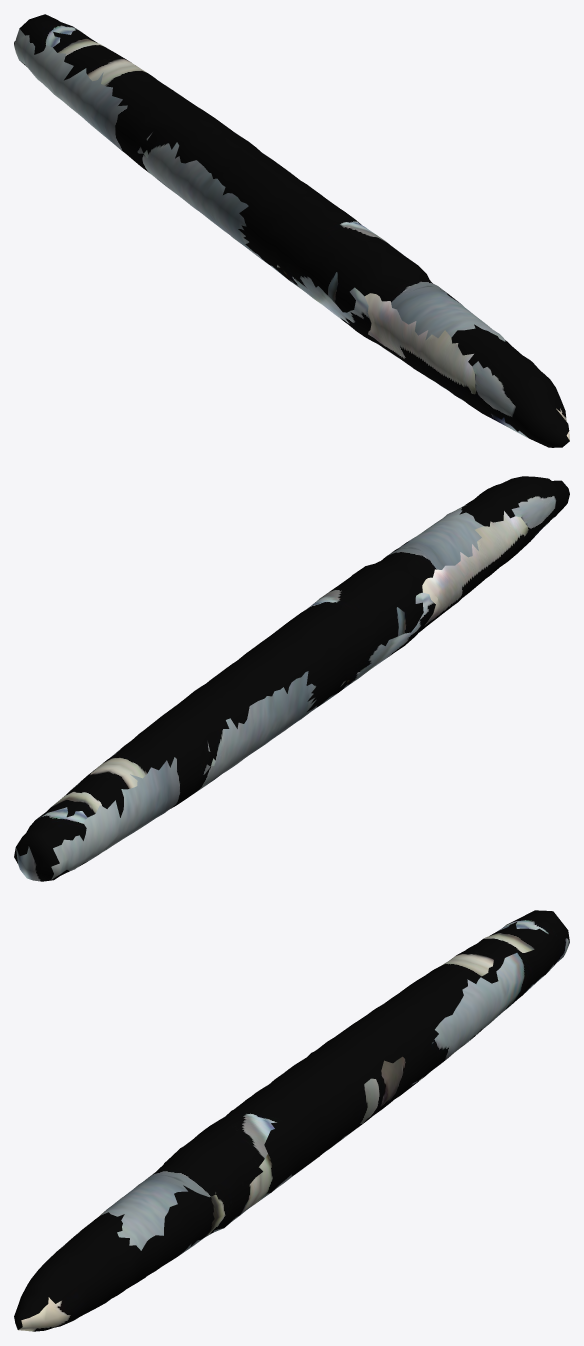
File: scan_align.obj
3 views of the same model, one above another, from view 1: azimuth 30°, elevation 25°; view 2: azimuth 150°, elevation 25°; view 3: azimuth 330°, elevation 25° (orthographic).
Bounding box in the file's own units: 0.00993 × 0.00997 × 0.1187.
